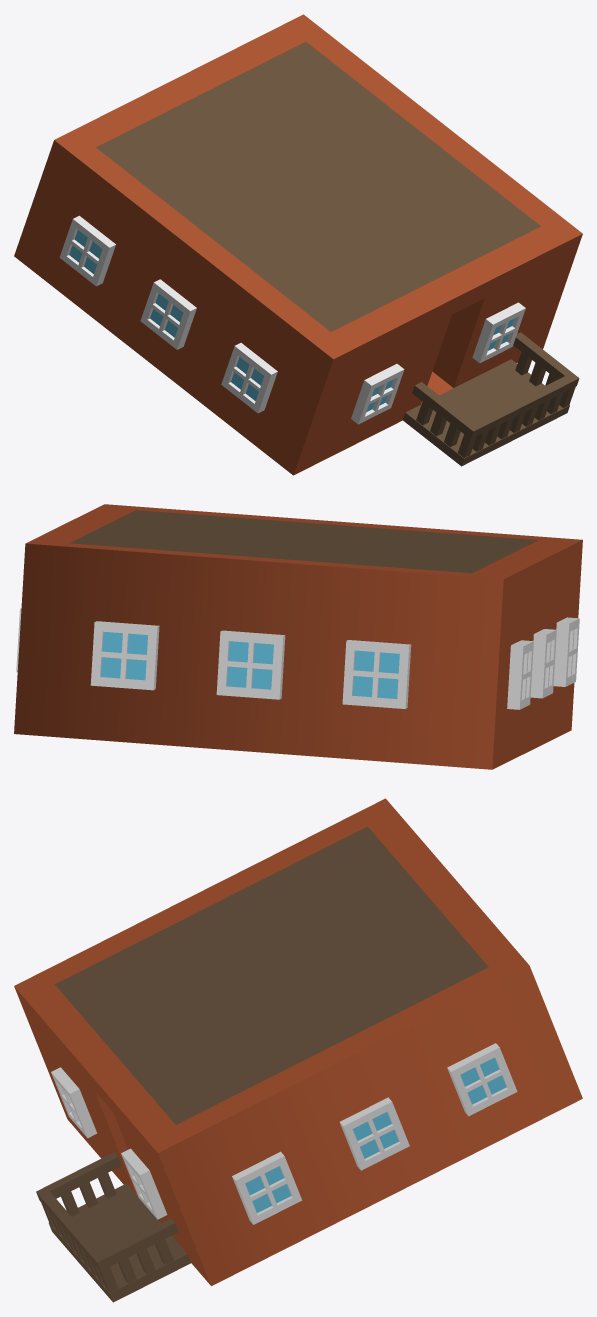
Rendered from VersionACycle.fbx.
3 views of the same model, one above another, from view 1: azimuth 30°, elevation 25°; view 2: azimuth 150°, elevation 25°; view 3: azimuth 270°, elevation 25° (orthographic). The views are drawn at different scales.
Visible parts, largest first — view 1: BaseHouse, Balcony, Window2, Window1, Window, Window8, Window7; view 2: BaseHouse, Window3, Window4, Window5, Window1, Window2, Window; view 3: BaseHouse, Balcony, Window9, Window10, Window11, Window8, Window7.
Boxes of the visible parts, left/top/right/bottom form: BaseHouse: left=14, top=14, right=582, bottom=475; Balcony: left=403, top=332, right=579, bottom=466; Window2: left=221, top=343, right=277, bottom=413; Window1: left=59, top=215, right=115, bottom=286; Window: left=140, top=279, right=196, bottom=349; Window8: left=351, top=364, right=404, bottom=424; Window7: left=472, top=302, right=525, bottom=363; BaseHouse: left=14, top=504, right=582, bottom=769; Window3: left=216, top=630, right=285, bottom=699; Window4: left=90, top=621, right=159, bottom=690; Window5: left=342, top=640, right=411, bottom=708; Window1: left=507, top=640, right=533, bottom=709; Window2: left=553, top=617, right=579, bottom=686; Window: left=530, top=629, right=556, bottom=698; BaseHouse: left=14, top=798, right=582, bottom=1286; Balcony: left=36, top=1152, right=191, bottom=1302; Window9: left=232, top=1151, right=302, bottom=1224; Window10: left=447, top=1043, right=517, bottom=1116; Window11: left=339, top=1097, right=409, bottom=1170; Window8: left=51, top=1067, right=97, bottom=1138; Window7: left=121, top=1148, right=167, bottom=1219.
Bounding box in the file's own units: 12.42 × 7.45 × 12.84.
